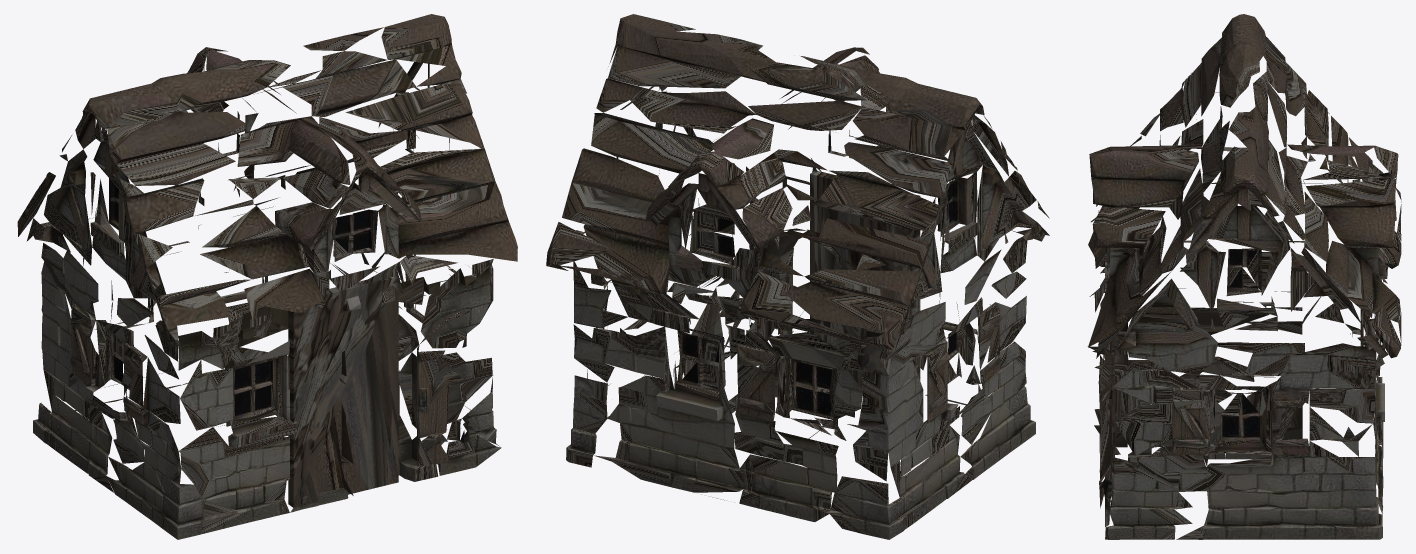
Rendered from bld_house_npc_b_a_LOD1.glb.
3 renders of one model, left to right at view 1: azimuth 30°, elevation 25°; view 2: azimuth 150°, elevation 25°; view 3: azimuth 270°, elevation 25°, orthographic. The views are drawn at different scales.
Visible parts, largest first — view 1: geometry_0; view 2: geometry_0; view 3: geometry_0.
Boxes of the visible parts, <box> form: geometry_0: <box>17,14,517,539</box>; geometry_0: <box>546,14,1049,539</box>; geometry_0: <box>1087,14,1401,539</box>.
Size of the model in its own units: 4.76 by 5 by 3.88.
1 material, 1 textured.
